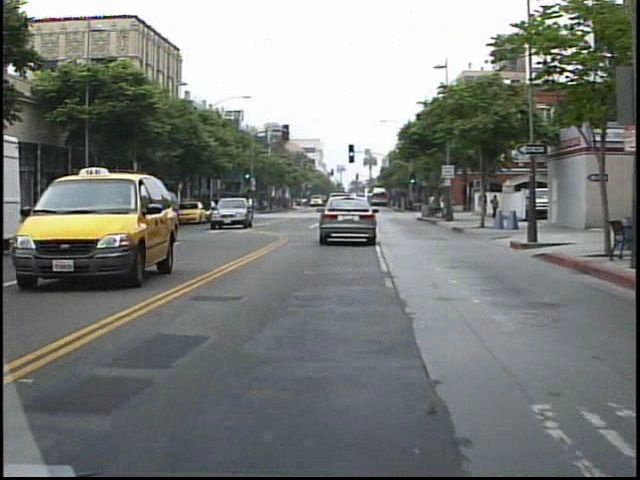person: (420, 188, 439, 220), (470, 185, 485, 225), (484, 189, 498, 224)
